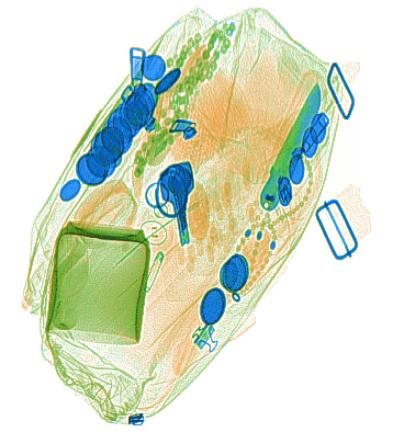knife: (253, 69, 329, 216)
